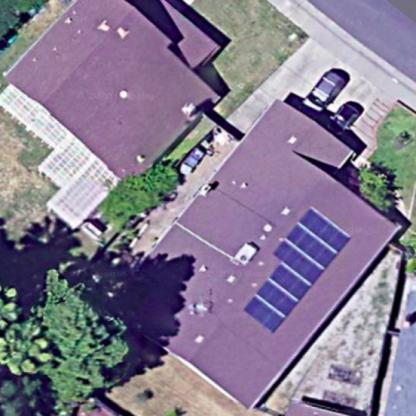car: (306, 63, 352, 113), (322, 102, 368, 148)
solar_panel: (233, 198, 357, 337)
